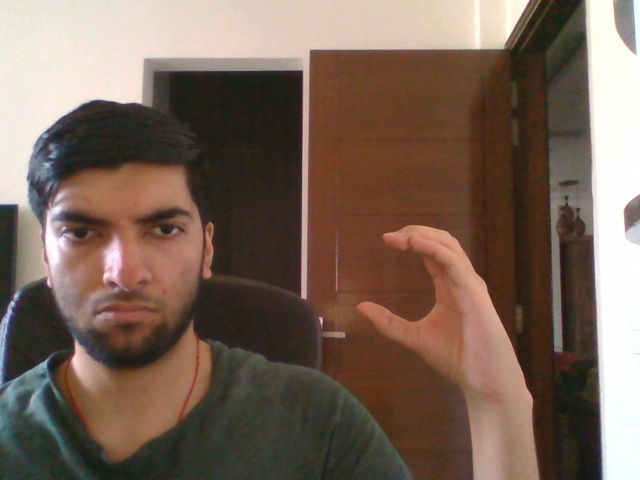LetterC: (355, 224, 531, 398)
